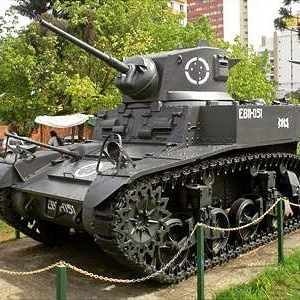Battle Tank: (2, 51, 300, 274)
